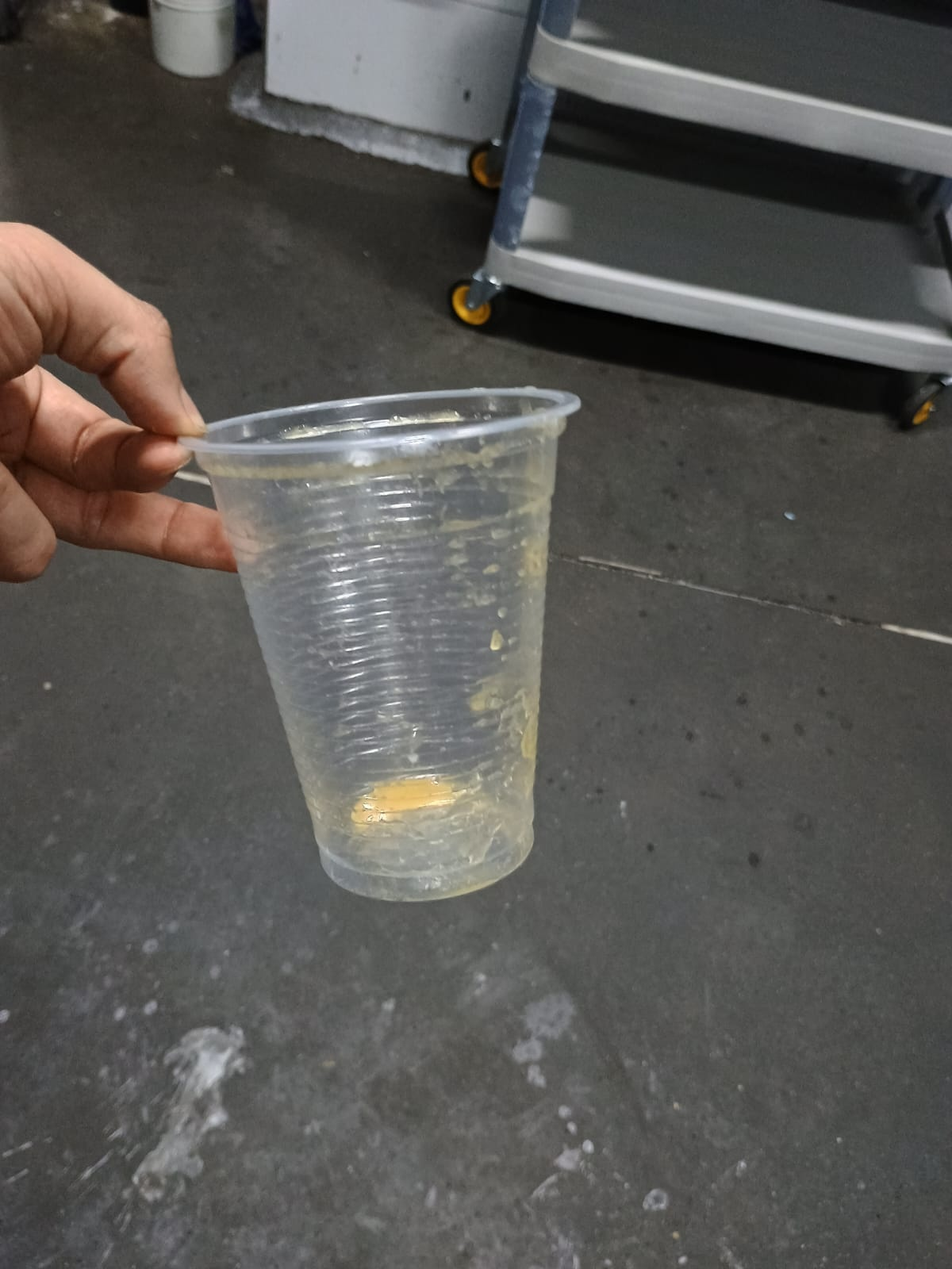Plastico: (181, 389, 577, 899)
